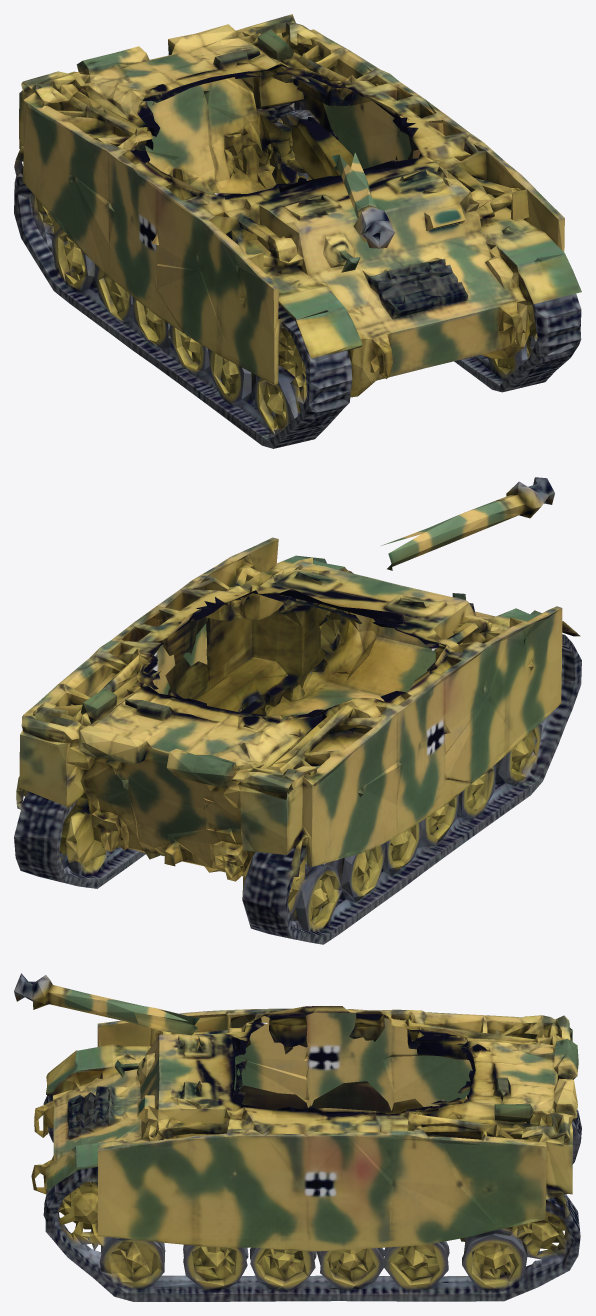
Rendered from pz4_hull.obj.
3 views of the same model, one above another, from view 1: azimuth 30°, elevation 25°; view 2: azimuth 150°, elevation 25°; view 3: azimuth 270°, elevation 25° (orthographic). The views are drawn at different scales.
Parts seen in each view (by area): view 1: pz4_hull; view 2: pz4_hull; view 3: pz4_hull.
Boxes of the visible parts, bbox=[...] form: pz4_hull: bbox=[14, 14, 581, 448]; pz4_hull: bbox=[14, 477, 581, 944]; pz4_hull: bbox=[14, 973, 581, 1301].
Size of the model in its own units: 3.18 by 2.67 by 5.9.
Materials: 1 (1 with a texture image).
